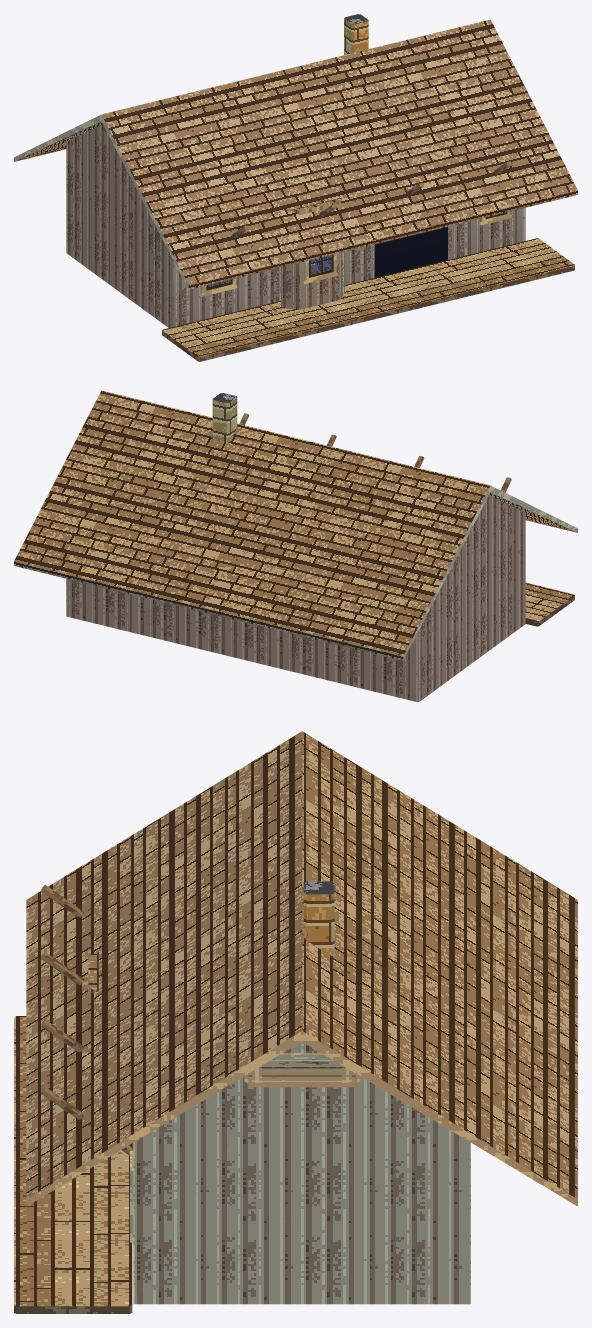
The model's file is wrail.station__entry.glb.
3 renders of one model, top to bottom at view 1: azimuth 30°, elevation 25°; view 2: azimuth 150°, elevation 25°; view 3: azimuth 270°, elevation 25°, orthographic. The views are drawn at different scales.
Parts seen in each view (by area): view 1: kit_roof, kit_body, kit_deck, kit_card_panes, kit_bay, kit_chimney, kit_windows; view 2: kit_roof, kit_body, kit_deck, kit_chimney; view 3: kit_roof, kit_body, kit_deck, kit_card_panes, kit_chimney, kit_braces, kit_trim.
Part boxes in pixels (bbox=[...]): kit_roof: bbox=[14, 19, 577, 289]; kit_body: bbox=[66, 125, 525, 327]; kit_deck: bbox=[162, 238, 574, 361]; kit_card_panes: bbox=[206, 212, 507, 290]; kit_bay: bbox=[281, 197, 344, 309]; kit_chimney: bbox=[344, 14, 368, 54]; kit_windows: bbox=[200, 211, 511, 296]; kit_roof: bbox=[14, 390, 577, 660]; kit_body: bbox=[66, 496, 525, 702]; kit_deck: bbox=[525, 582, 574, 626]; kit_chimney: bbox=[212, 393, 237, 443]; kit_roof: bbox=[26, 731, 577, 1206]; kit_body: bbox=[133, 1041, 470, 1304]; kit_deck: bbox=[14, 1016, 132, 1313]; kit_card_panes: bbox=[248, 1059, 355, 1083]; kit_chimney: bbox=[303, 881, 334, 956]; kit_braces: bbox=[41, 884, 133, 1155]; kit_trim: bbox=[244, 1053, 360, 1087].
Size of the model in its own units: 12.6 by 6.5 by 10.02.
Materials: 10 (10 with a texture image).
